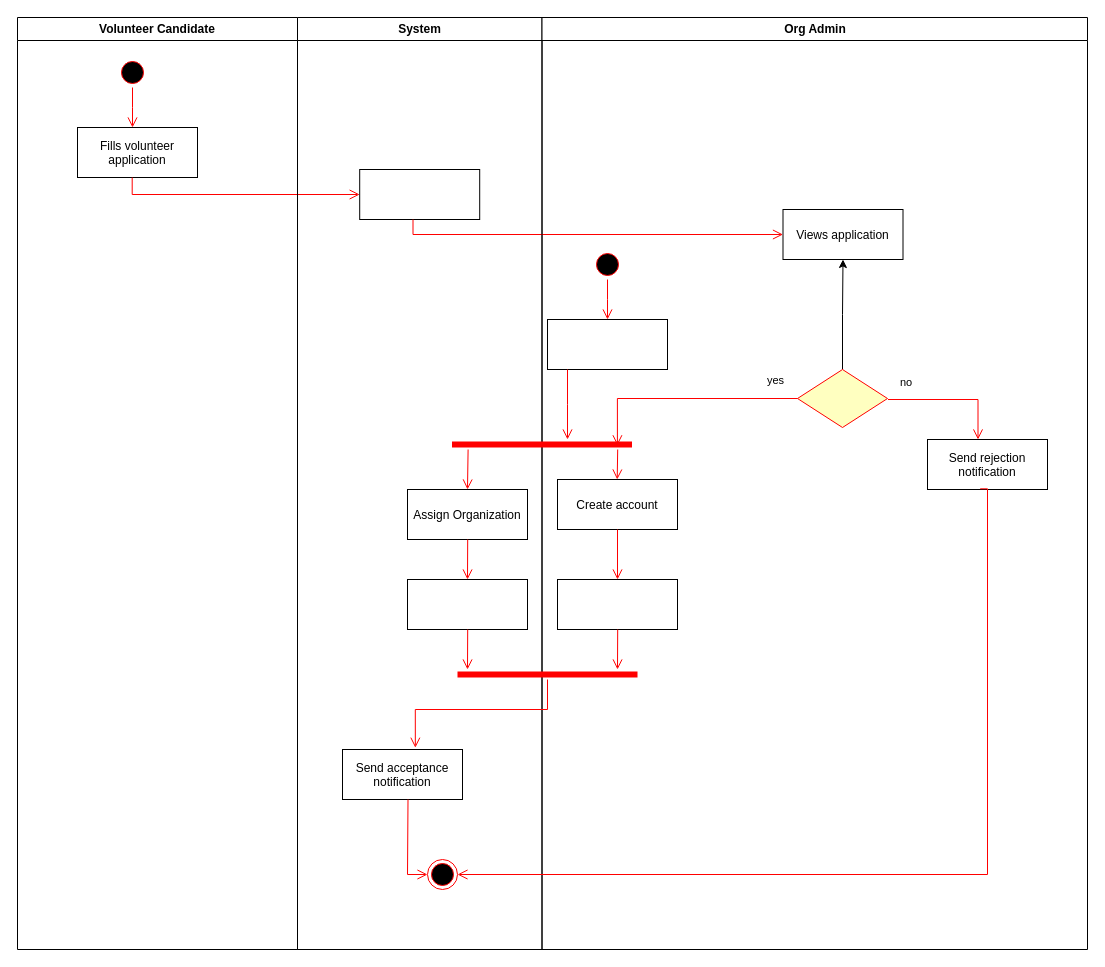
Image size: 1105x967. Some labels were removed from this diagram. The shapes that lost their labels are listed below. From the top down, each one's centre as x and y in pixels, then its label:
point (419, 194): Stores application
point (607, 344): Creates volunteer
point (842, 398): Application accepted
point (467, 604): Create profile
point (617, 604): Activate Profile
